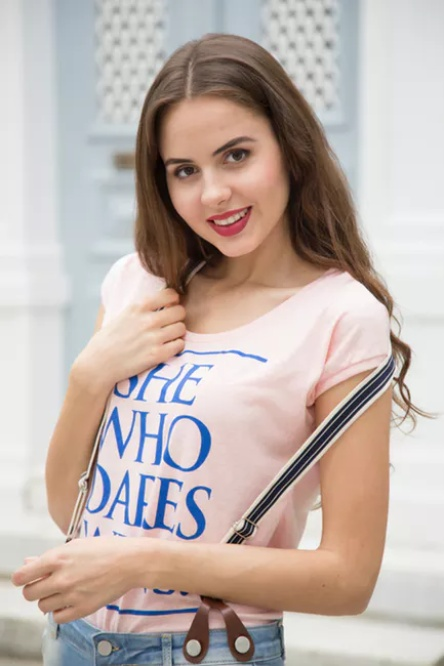face: (161, 98, 290, 259)
